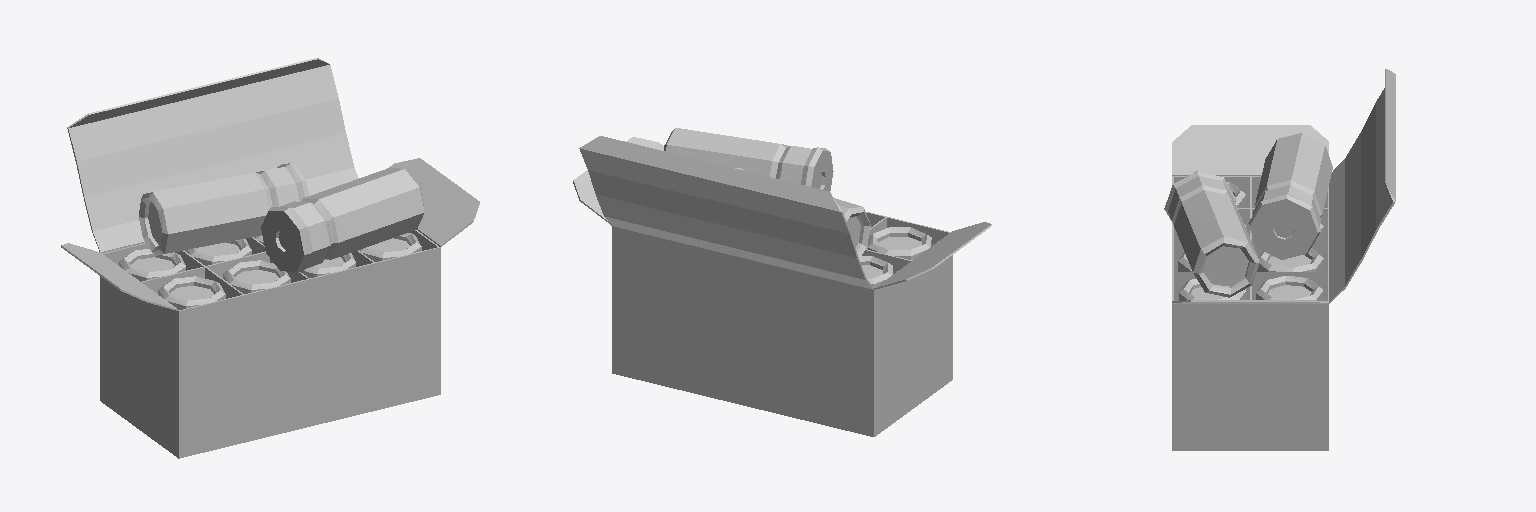
The model's file is shotgun_ammo_2.obj.
3 views of the same model, side by side, from view 1: azimuth 30°, elevation 25°; view 2: azimuth 150°, elevation 25°; view 3: azimuth 270°, elevation 25° (orthographic).
Visible parts, largest first — view 1: shotgun_ammo_2; view 2: shotgun_ammo_2; view 3: shotgun_ammo_2.
Boxes of the visible parts, x1=… form: shotgun_ammo_2: x1=61, y1=58, x2=479, y2=458; shotgun_ammo_2: x1=573, y1=128, x2=991, y2=436; shotgun_ammo_2: x1=1164, y1=69, x2=1395, y2=450.
Bounding box in the file's own units: 0.1979 × 0.138 × 0.1102.